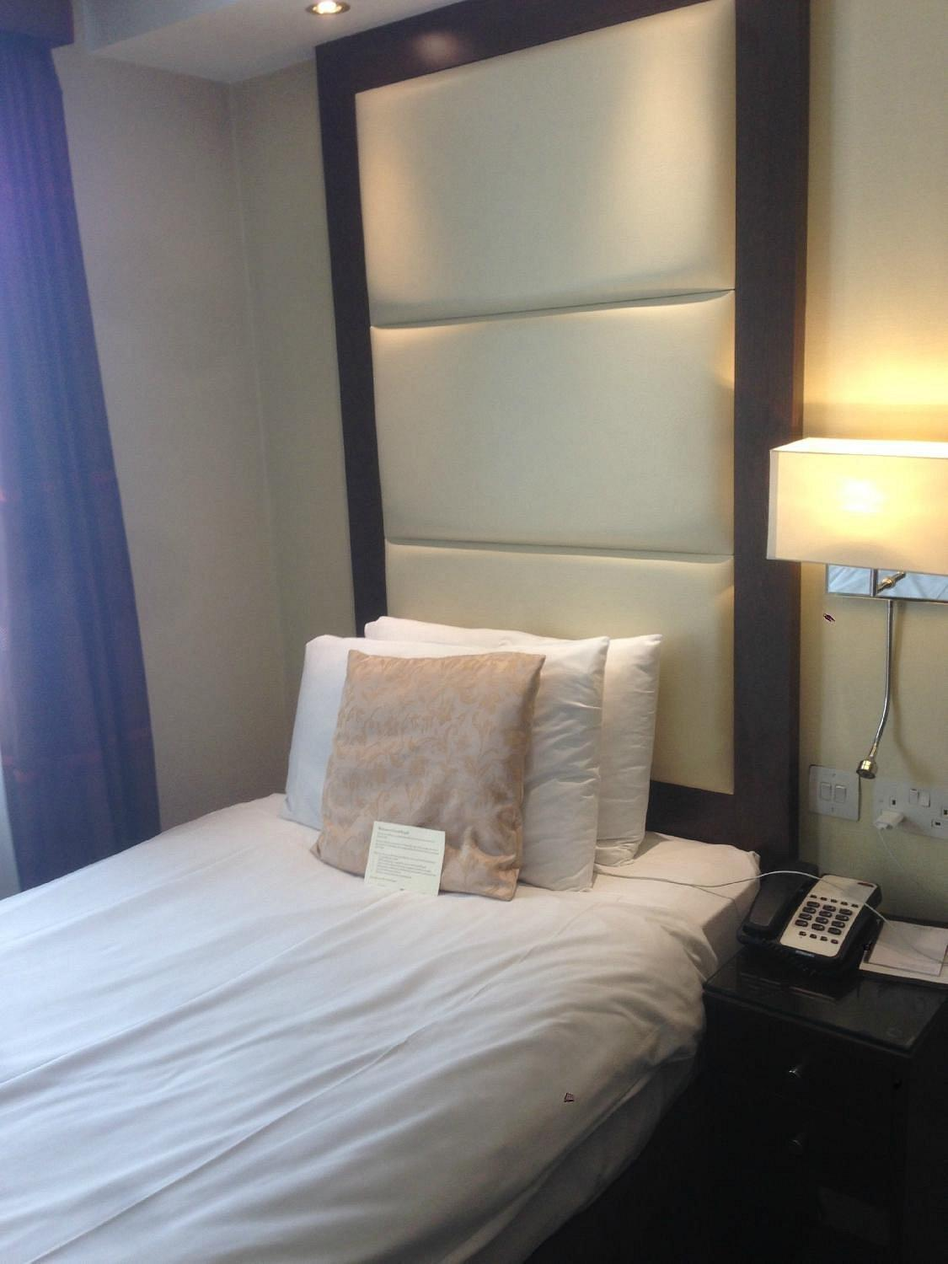clean_bed: (0, 350, 784, 1263)
lamp: (773, 432, 948, 794)
organised_pillow: (272, 605, 676, 916)
